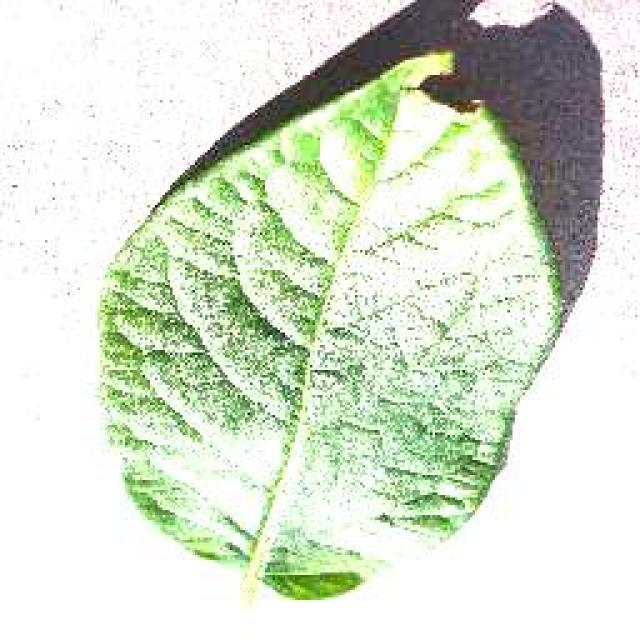Potato___healthy: (92, 49, 564, 612)
